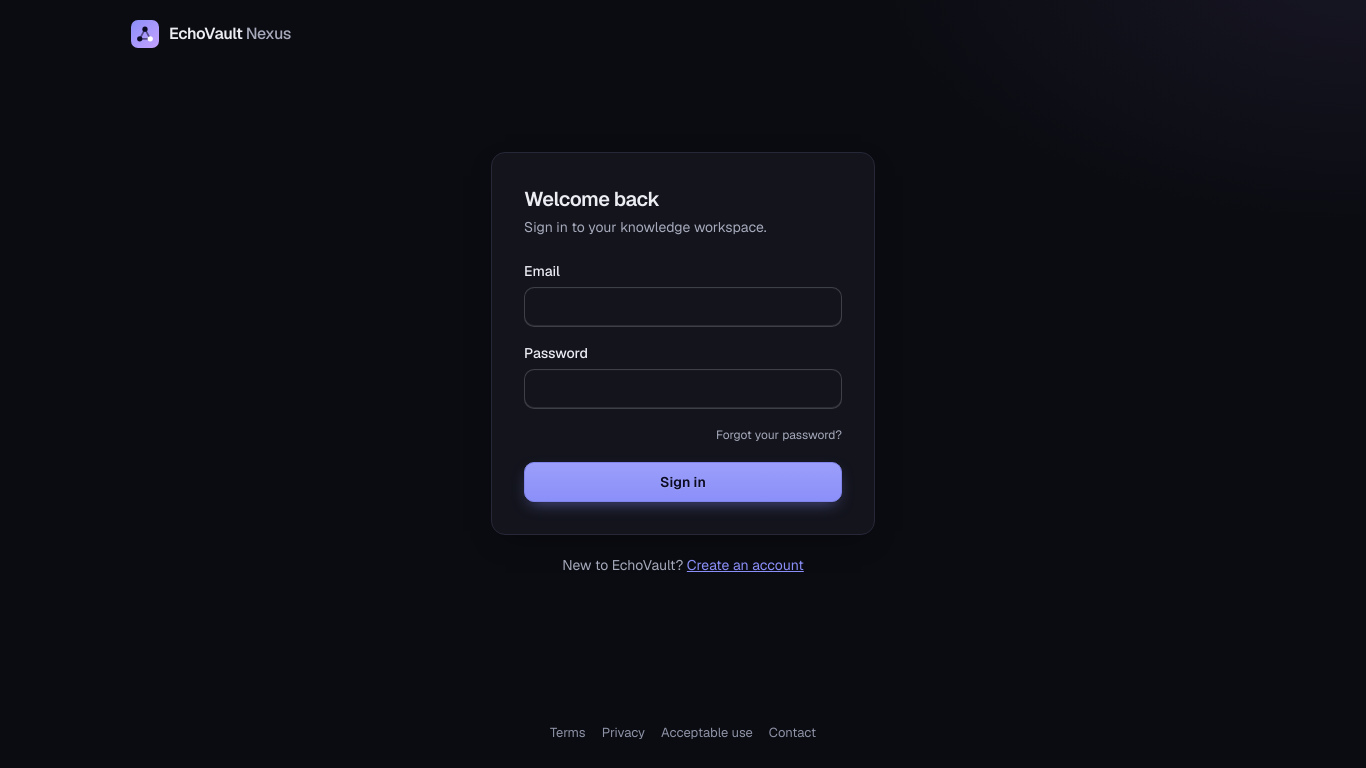
Test: LoginPage › shows the server's error message
This screenshot has width=1366, height=768.
Step 1. Type "ada@example.com" into the field labelled "Email" → coordinates (683, 307), box [524,287,842,327]
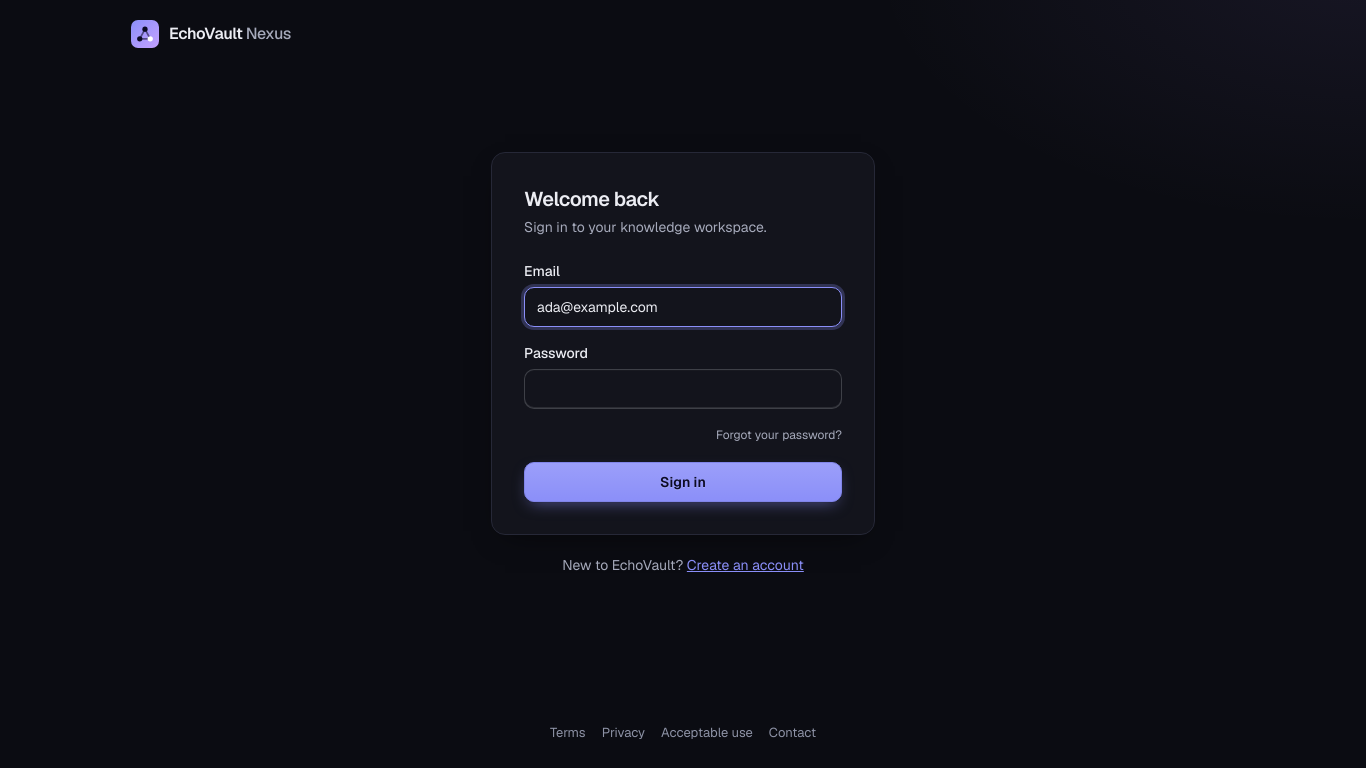
Step 2. Type "wrong" into the password field labelled "Password" → coordinates (683, 389), box [524,369,842,409]
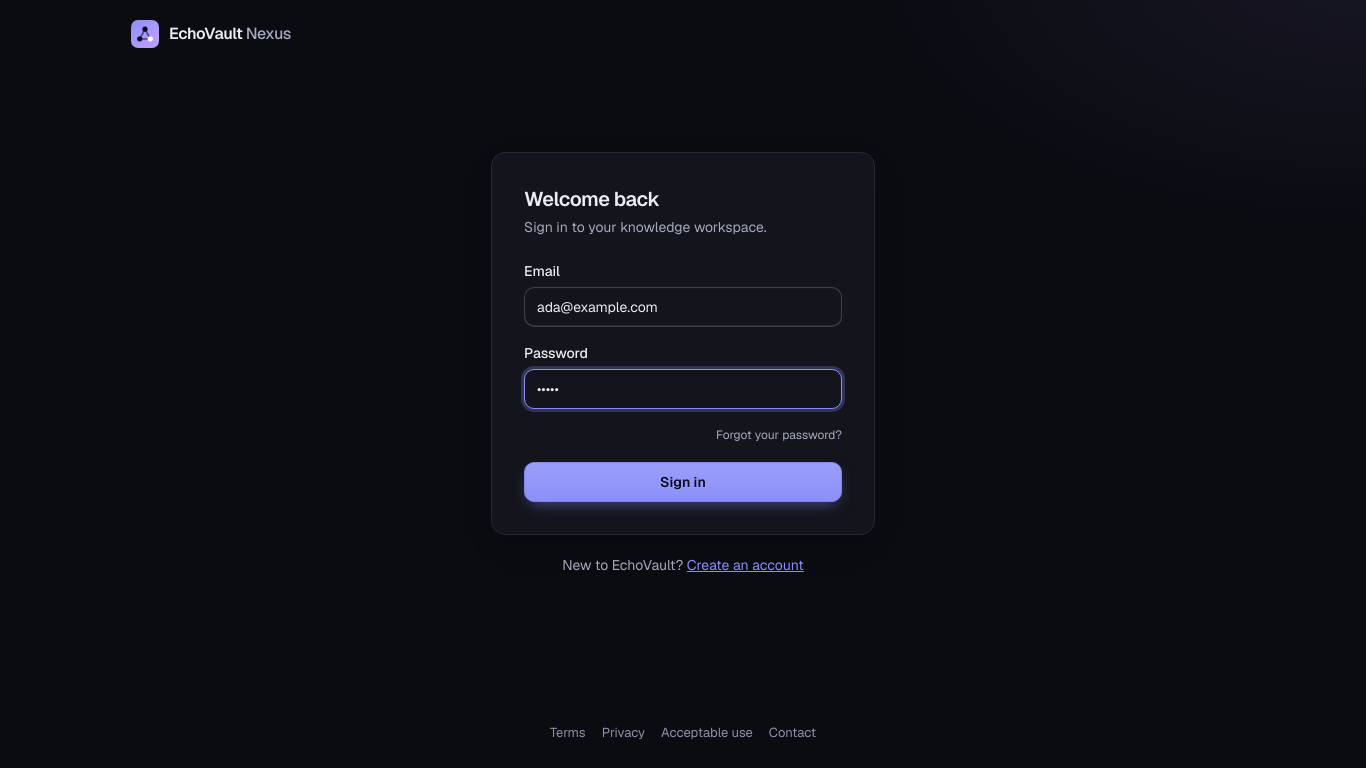
Step 3. Click the button "Sign in" → coordinates (683, 482), box [524,462,842,502]
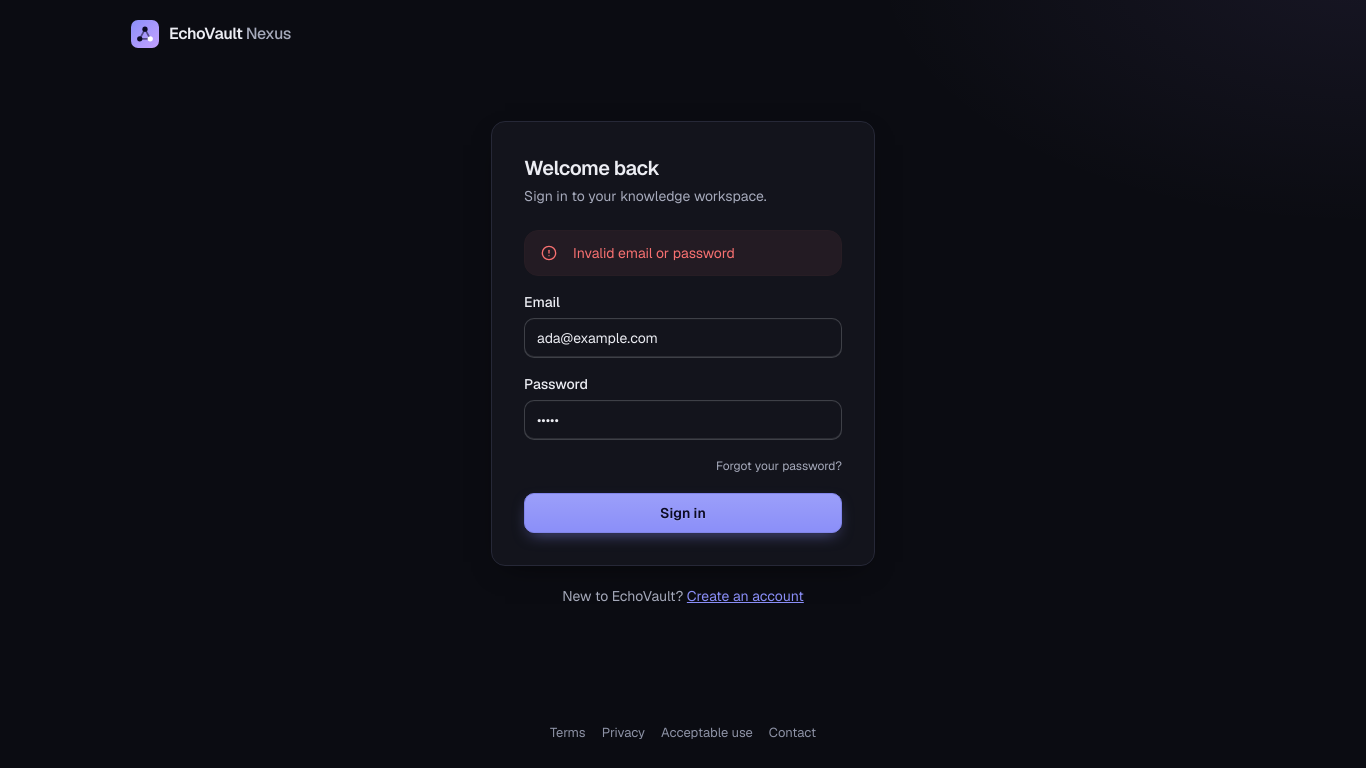
Result: the message reads "Invalid email or password" at [573,244,735,262]
